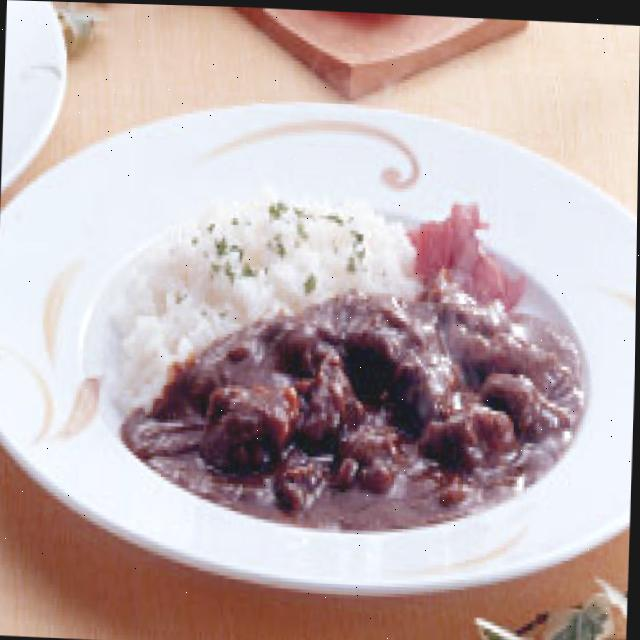牛肉菜式: (0, 83, 639, 603)
